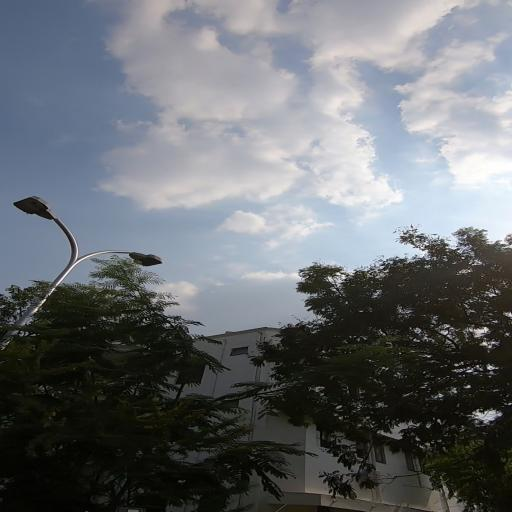Street_light: (10, 192, 71, 233), (110, 244, 170, 278)
